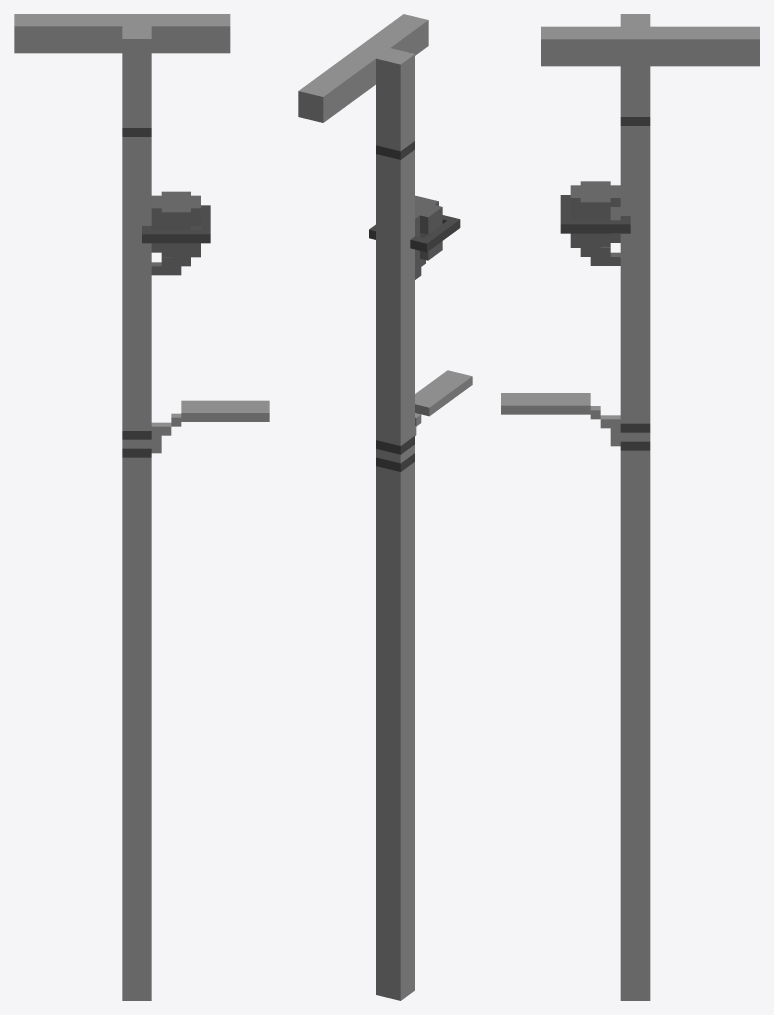
Rendered from Japanese Street Light.obj.
3 views of the same model, side by side, from view 1: azimuth 90°, elevation 25°; view 2: azimuth 150°, elevation 25°; view 3: azimuth 270°, elevation 25° (orthographic). The views are drawn at different scales.
Size of the model in its own units: 0.8 by 10.8 by 2.6.
1 material, 1 textured.
